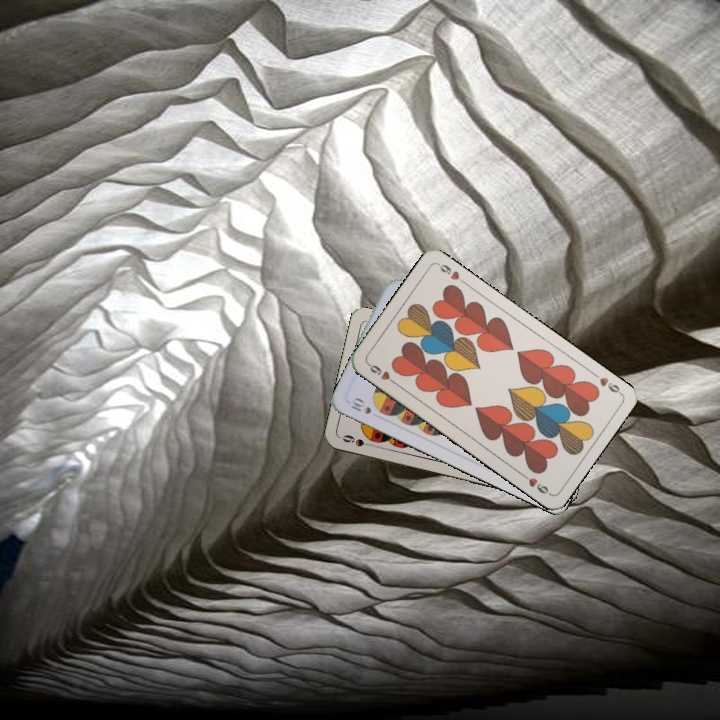H9: (588, 368, 624, 397), (364, 359, 399, 387)
S10: (347, 393, 374, 417)
S9: (338, 431, 378, 449)
